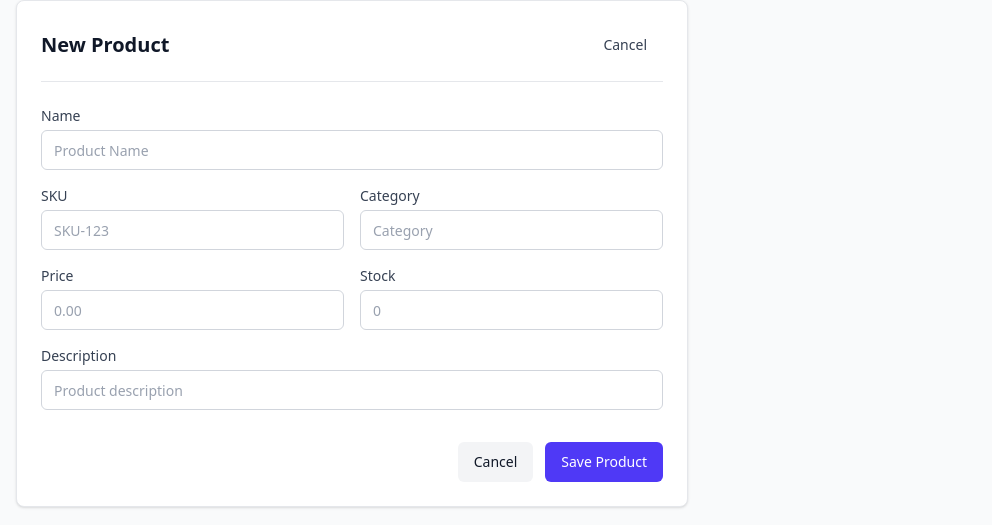
ProductFormPage › handles submission error without message
Type "New Product" into the field labelled "Name" at (352, 150), box [41,130,663,170]
Type "SKU-1" into the field labelled "SKU" at (192, 230), box [41,210,344,250]
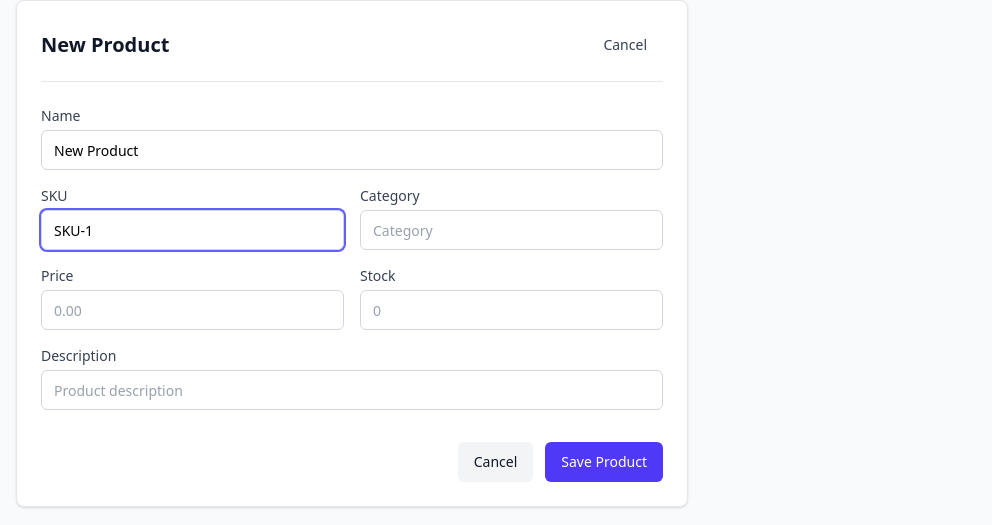
Type "C1" into the field labelled "Category" at (512, 230), box [360,210,663,250]
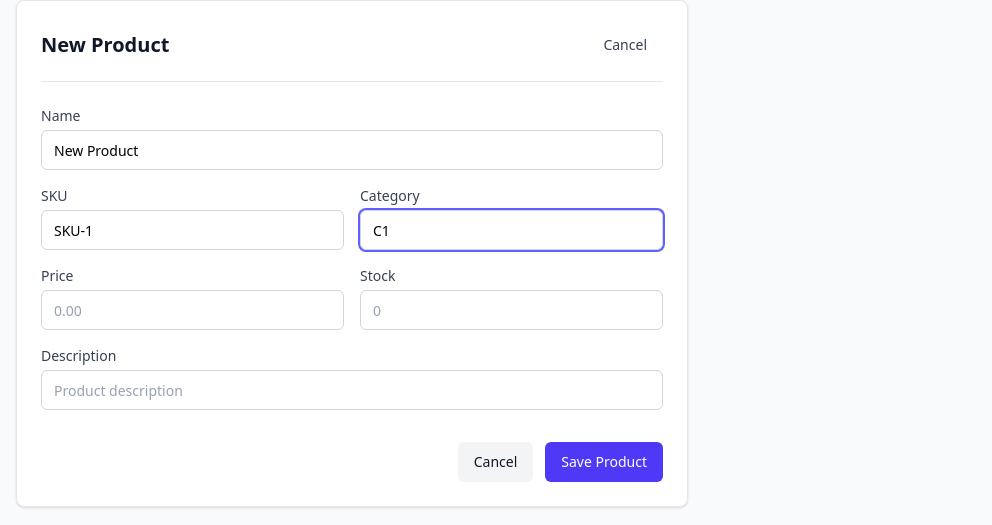
Type "150" into the number field labelled "Price" at (192, 310), box [41,290,344,330]
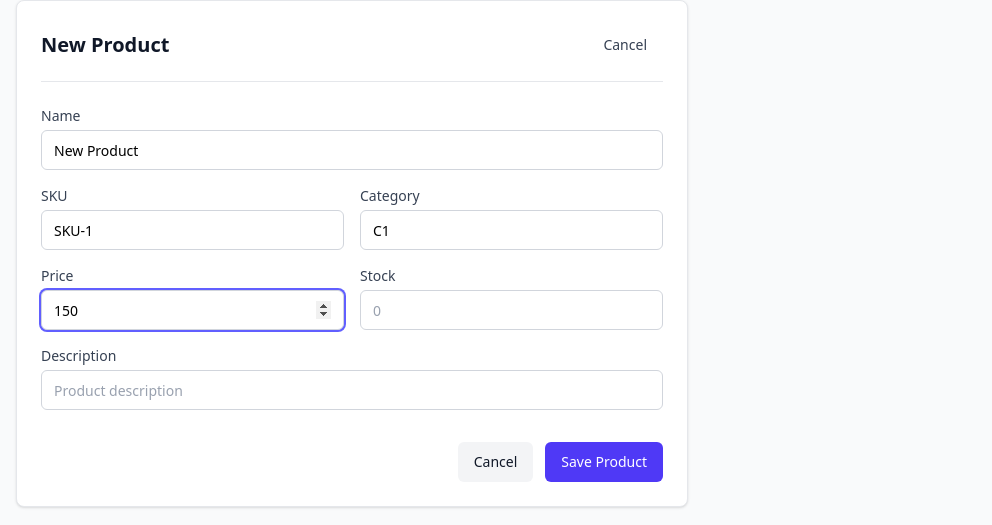
Type "10" into the number field labelled "Stock" at (512, 310), box [360,290,663,330]
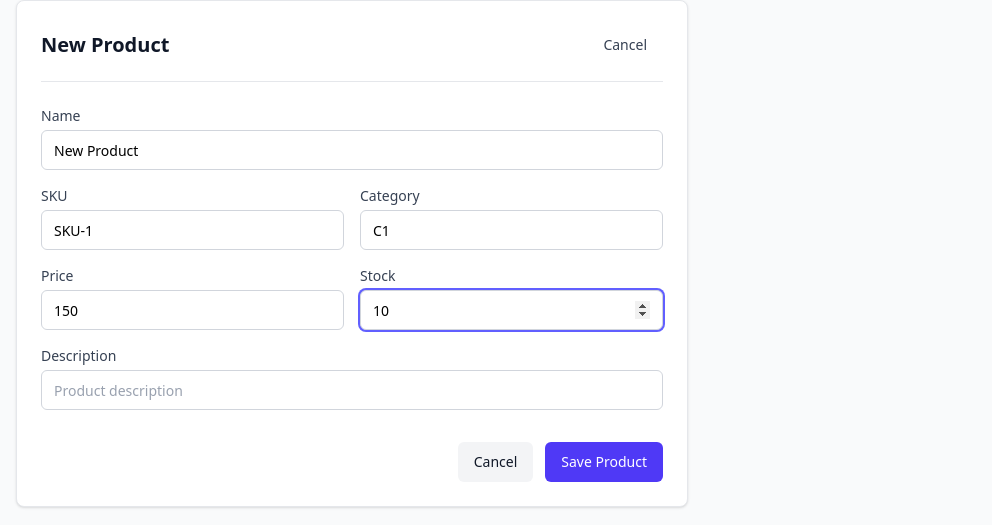
Type "Desc" into the field labelled "Description" at (352, 390), box [41,370,663,410]
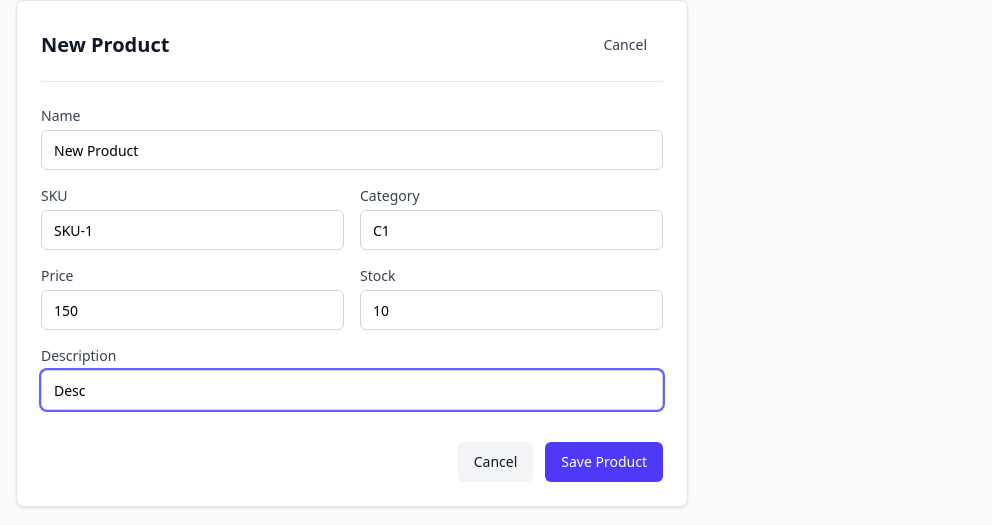
Click the button "Save Product" at (604, 462), box [545,442,663,482]
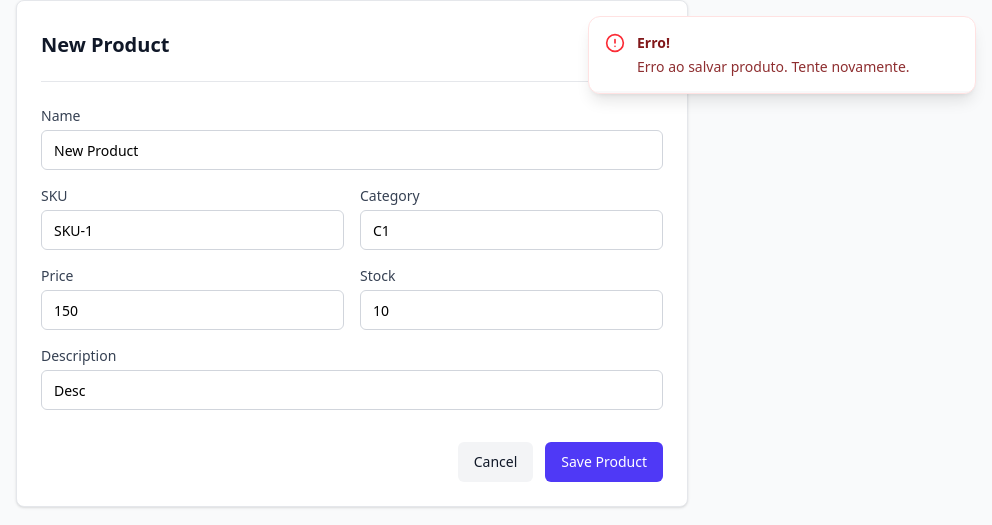
Expected: the text "Erro ao salvar produto. Tente novamente." is shown, [637,57,910,77]
